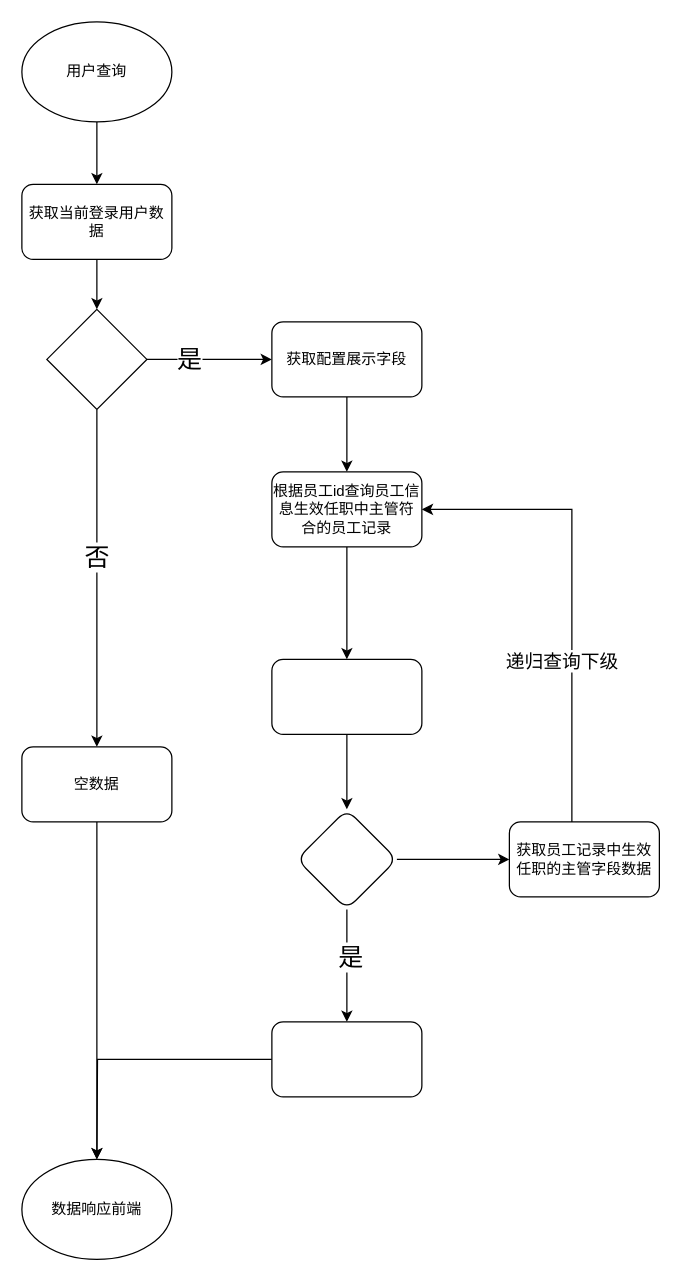
Some shapes in this 681 by 1281 pixel diagram are drawn without their labels. Here are the shapes that lost their labels. From the top down, the centre of each, then its label:
At pixel 96 358: "是否拥有员工数据".
At pixel 346 696: "引用、枚举、布尔等字段翻译及格式化".
At pixel 346 858: "是否最后一级".
At pixel 346 1059: "收集整理数据".
